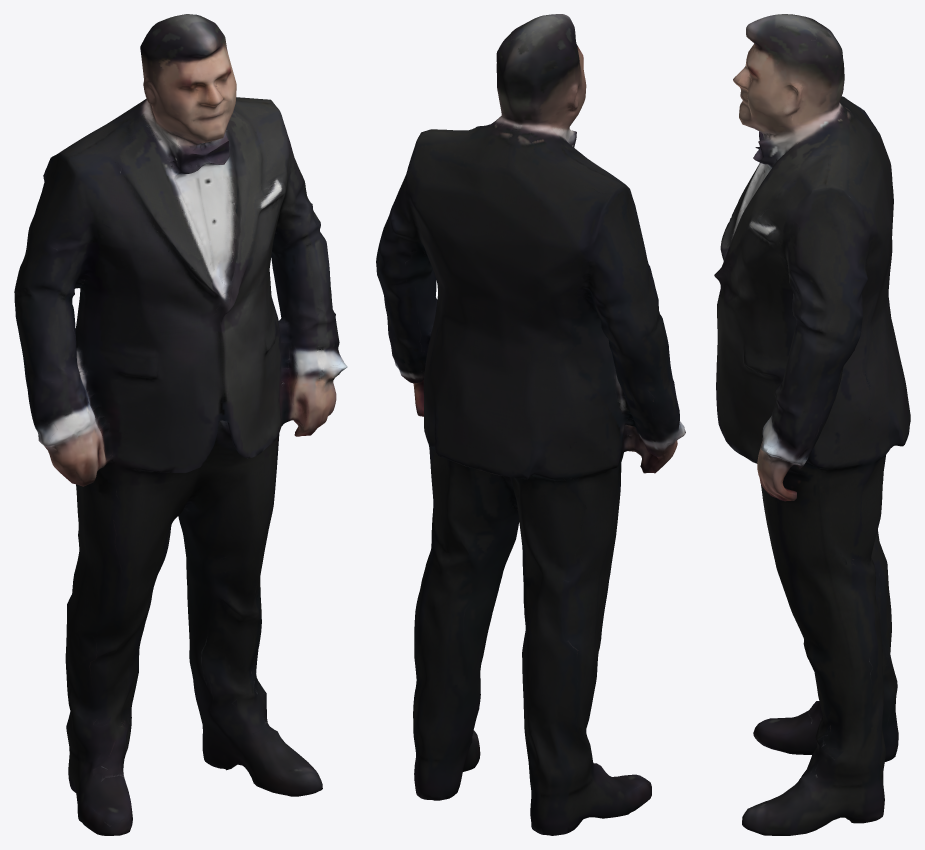
The model's file is benan.glb.
3 views of the same model, side by side, from view 1: azimuth 30°, elevation 25°; view 2: azimuth 150°, elevation 25°; view 3: azimuth 270°, elevation 25° (orthographic). The views are drawn at different scales.
Visible parts, largest first — view 1: ManInTuxedo; view 2: ManInTuxedo; view 3: ManInTuxedo.
Part boxes in pixels (box(x1,y1,x2,y2)): ManInTuxedo: box(14, 14, 347, 835); ManInTuxedo: box(376, 14, 685, 835); ManInTuxedo: box(714, 14, 910, 835).
Bounding box in the file's own units: 0.7379 × 1.85 × 0.4309.
Materials: 1 (1 with a texture image).
